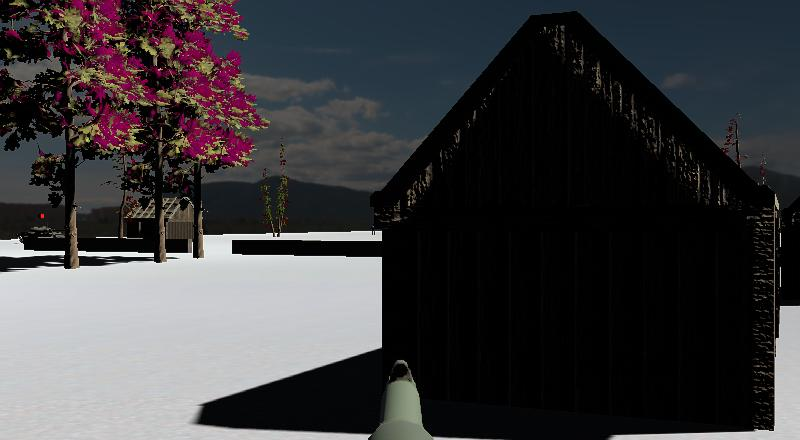House: (343, 7, 761, 440), (118, 188, 212, 261)
